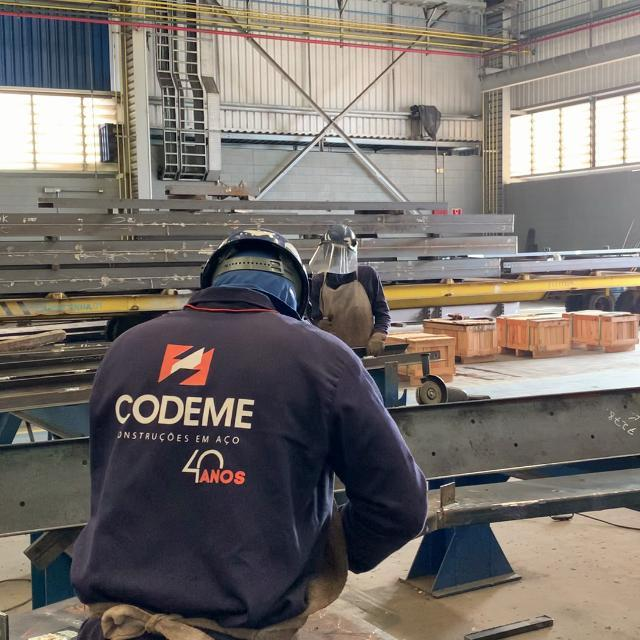face-shield: (307, 241, 359, 274)
helmet: (200, 230, 312, 313), (320, 223, 361, 244)
person: (69, 227, 428, 631), (310, 220, 393, 359)
